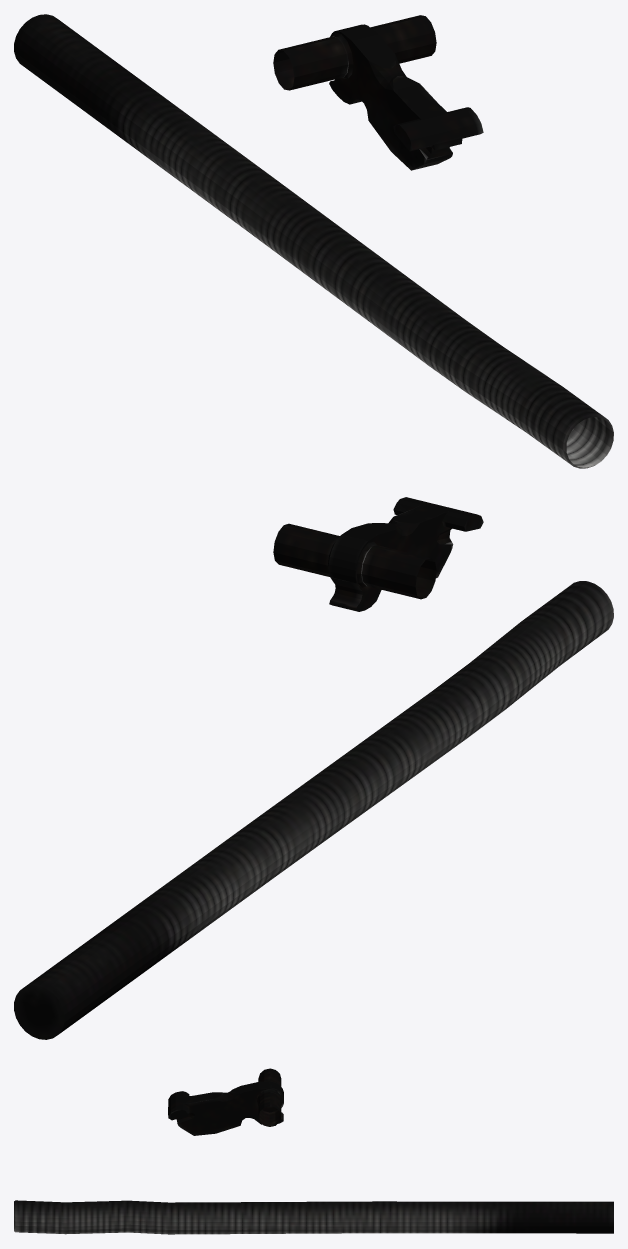
The picture shows the model from 3 angles, top to bottom: view 1: azimuth 30°, elevation 25°; view 2: azimuth 150°, elevation 25°; view 3: azimuth 270°, elevation 25°; orthographic projection. The views are drawn at different scales.
Parts seen in each view (by area): view 1: TW_59f9cabd86f7743a10721f46_PZ_Import; view 2: TW_59f9cabd86f7743a10721f46_PZ_Import; view 3: TW_59f9cabd86f7743a10721f46_PZ_Import.
Boxes of the visible parts, x1=… form: TW_59f9cabd86f7743a10721f46_PZ_Import: x1=14, y1=14, x2=613, y2=468; TW_59f9cabd86f7743a10721f46_PZ_Import: x1=14, y1=497, x2=613, y2=1039; TW_59f9cabd86f7743a10721f46_PZ_Import: x1=14, y1=1068, x2=613, y2=1234.
Bounding box in the file's own units: 0.0183 × 0.1228 × 0.0335.
Materials: 1 (1 with a texture image).
